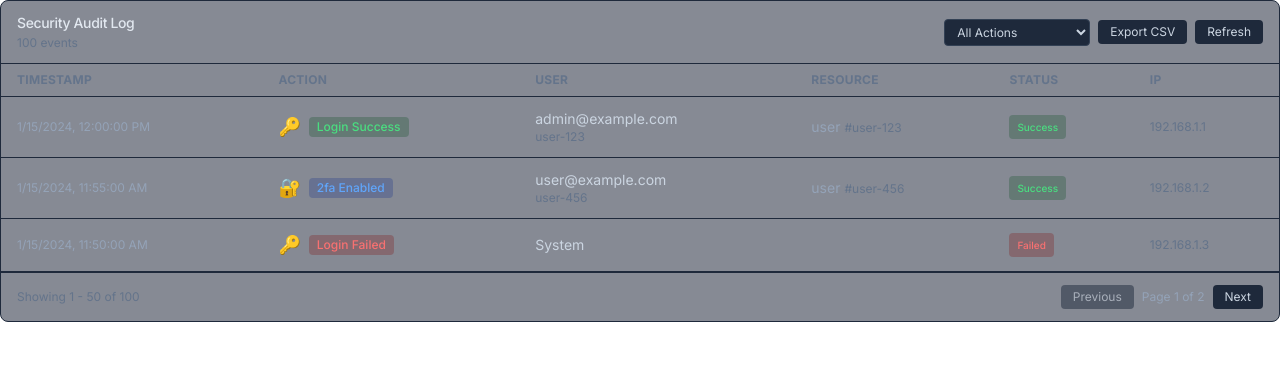
AuditLogViewer › log entries display › expands row details when clicked
Expected: the text "Login from Chrome browser" is not shown
Note: Click on the first row
Click the row that starts with "1/15/2024, 12:00:00 PM". click: (640, 127)
box: [1,96,1279,158]
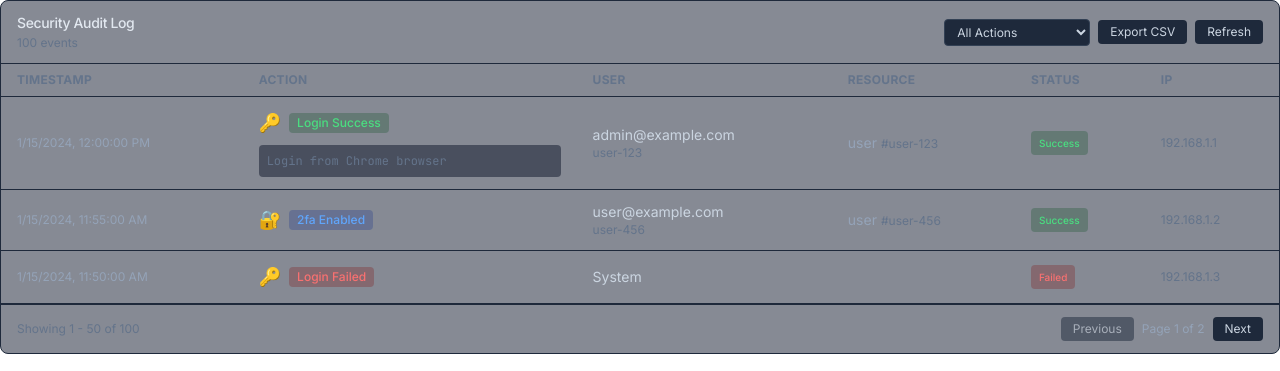
Result: the text "Login from Chrome browser" is shown at [259,145,561,177]
